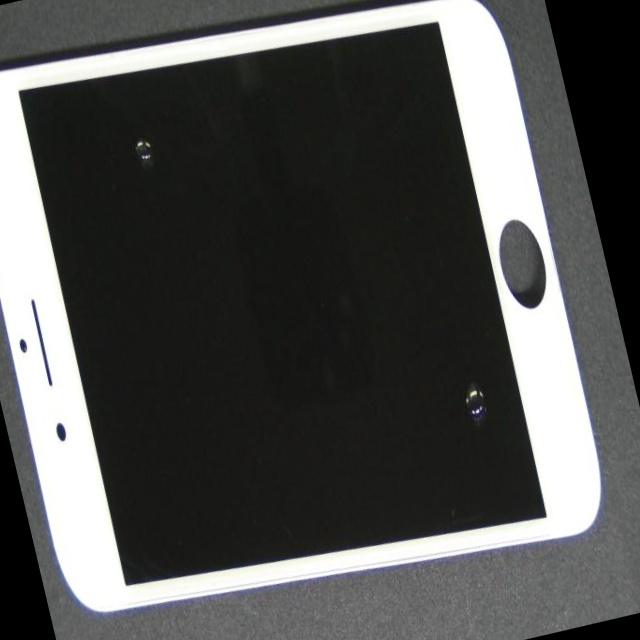oil: (200, 97, 640, 640), (42, 24, 262, 228)
